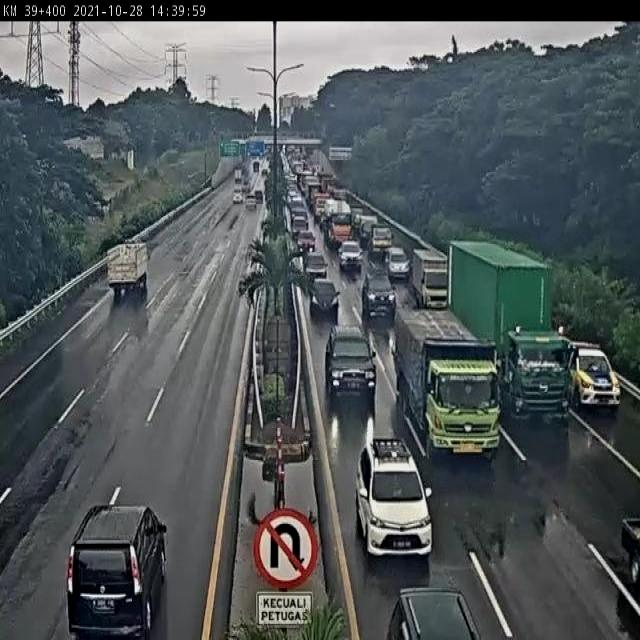Car: (364, 440, 424, 564)
Truck: (66, 535, 145, 639), (384, 587, 482, 636), (383, 444, 429, 548), (569, 346, 619, 411), (326, 351, 376, 410), (378, 449, 397, 558), (362, 274, 396, 323), (310, 278, 341, 319), (305, 251, 328, 279), (386, 247, 408, 275), (370, 227, 392, 255), (296, 228, 316, 253), (233, 192, 242, 204)
